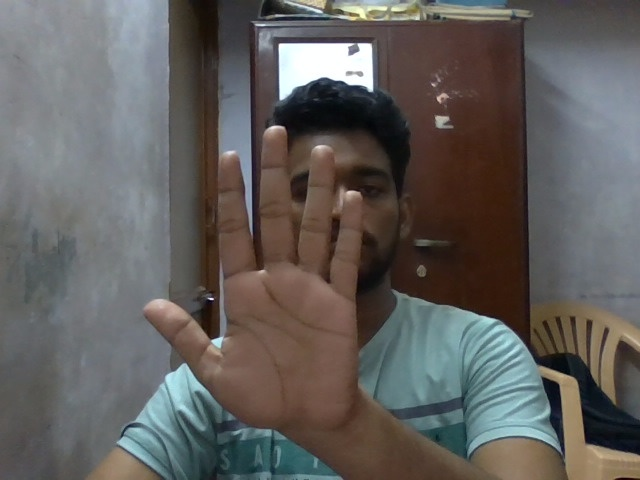Hello: (144, 122, 371, 452)
